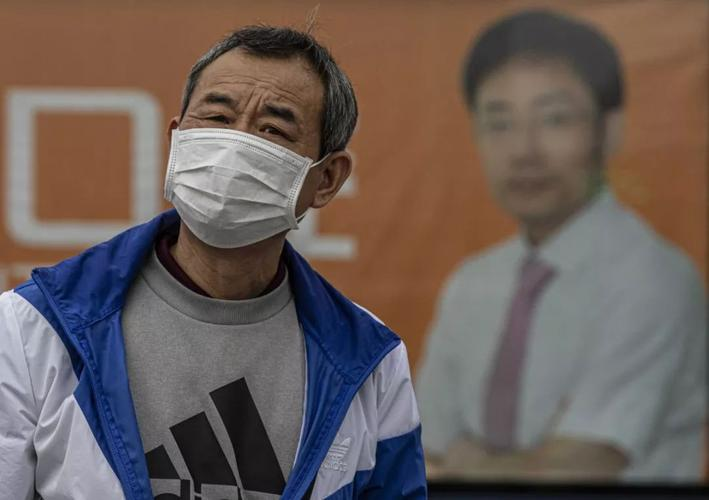mask: (168, 36, 337, 241)
